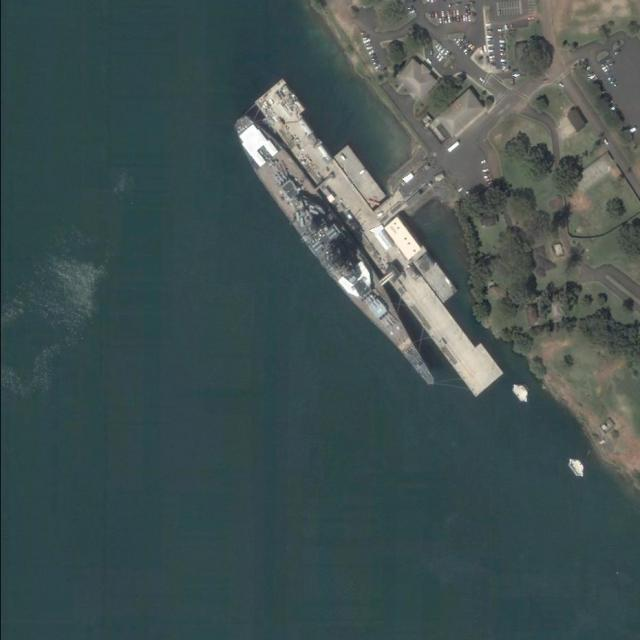Dock: (253, 83, 505, 398)
Other Warship: (223, 108, 447, 392)
